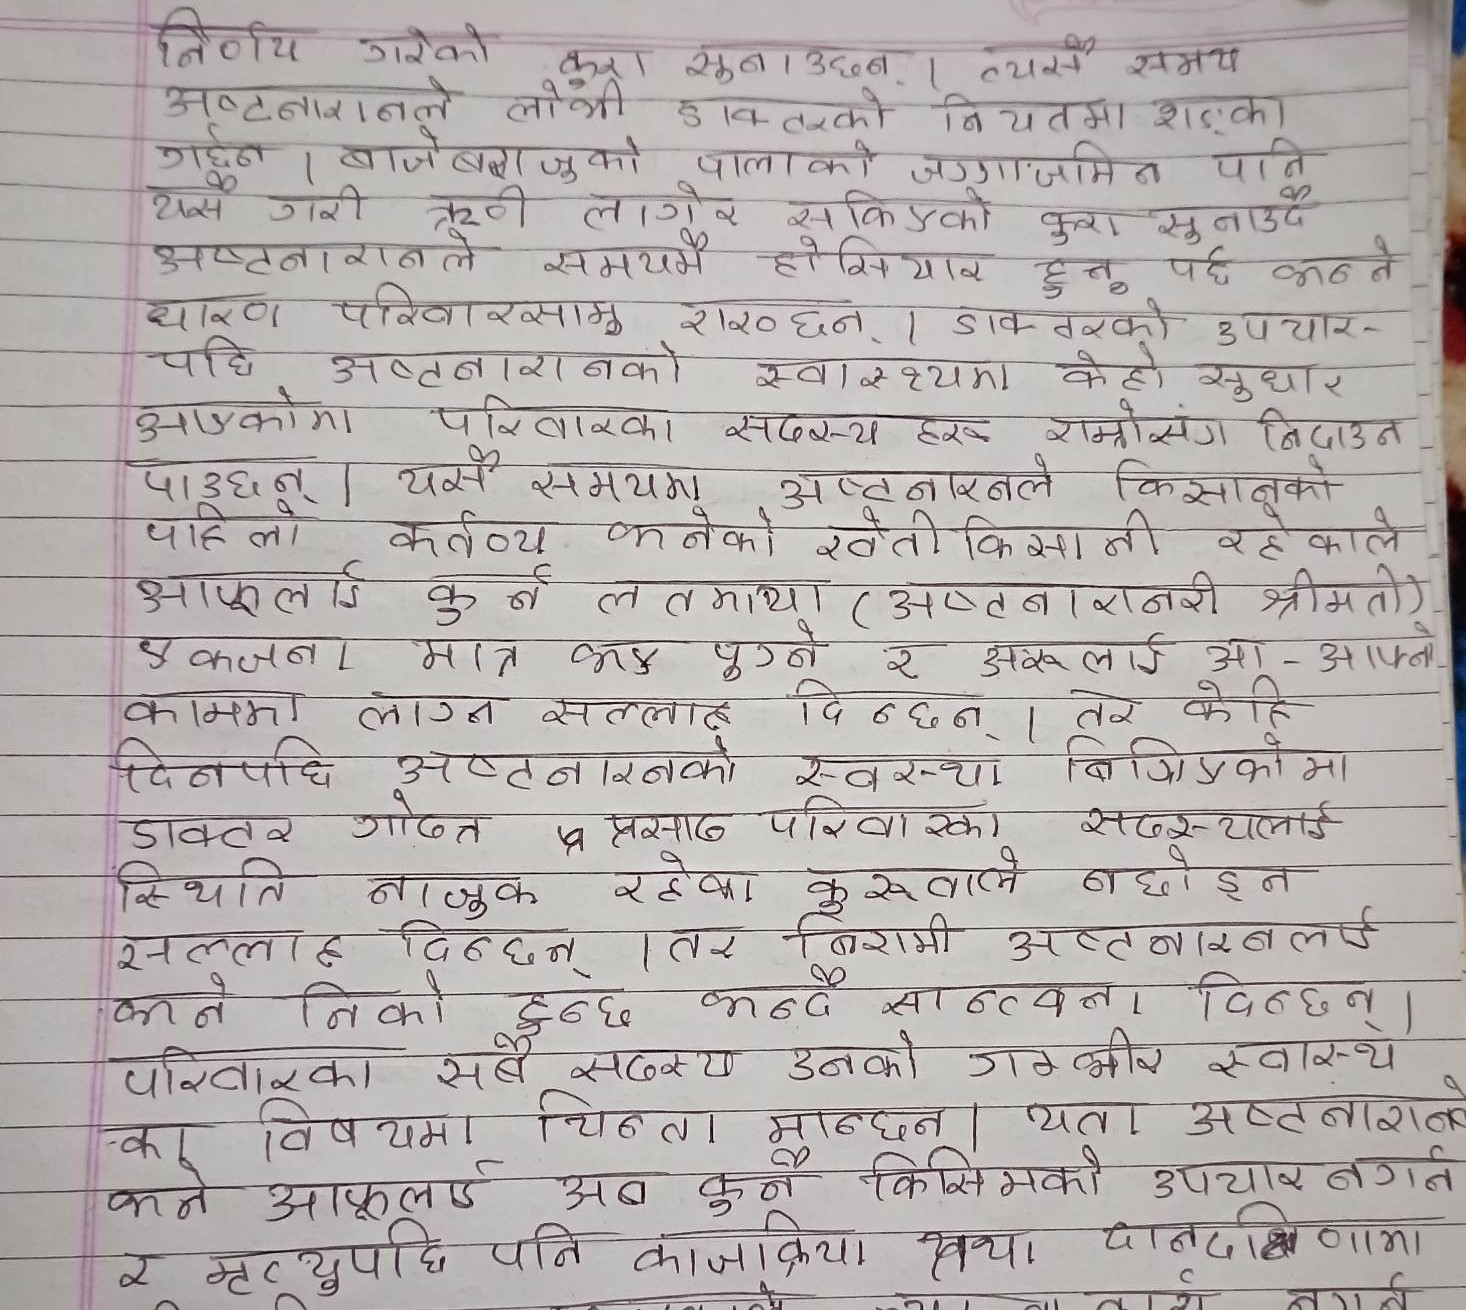person: (1087, 1210, 1433, 1269), (195, 1226, 466, 1293), (102, 1041, 389, 1097), (250, 1160, 482, 1217), (249, 1102, 483, 1156), (102, 922, 346, 971), (105, 859, 305, 913), (280, 976, 474, 1029), (79, 1159, 231, 1223), (119, 805, 311, 851), (102, 975, 238, 1038), (89, 1115, 211, 1155), (100, 1245, 169, 1290)
text: (1003, 913, 1392, 963), (388, 734, 737, 786), (323, 280, 629, 337), (881, 569, 1224, 621), (789, 843, 1042, 911), (324, 338, 683, 385), (147, 228, 476, 278), (1046, 738, 1359, 792), (633, 1216, 878, 1280), (331, 129, 637, 179), (1182, 1082, 1466, 1135), (783, 454, 1059, 507), (856, 1147, 1115, 1201), (159, 76, 447, 124), (136, 560, 369, 618), (104, 733, 335, 790), (1080, 847, 1308, 904), (587, 564, 827, 617), (723, 402, 989, 450), (870, 971, 1141, 1018), (124, 387, 358, 440), (1098, 453, 1336, 504), (1196, 627, 1437, 678), (904, 138, 1164, 185), (427, 389, 679, 438), (965, 1027, 1172, 1085), (1076, 797, 1340, 842), (529, 1094, 723, 1155), (350, 860, 550, 918), (1185, 972, 1392, 1028), (139, 5, 310, 72), (1209, 503, 1412, 559), (757, 237, 990, 284), (789, 680, 987, 737), (384, 921, 593, 974), (947, 295, 1166, 345), (1142, 1146, 1319, 1207), (129, 630, 357, 676), (756, 795, 1010, 837), (676, 33, 901, 80), (1148, 189, 1329, 246), (751, 353, 1007, 393), (963, 510, 1161, 561), (124, 448, 323, 498), (1209, 1028, 1407, 1079), (531, 683, 739, 731), (685, 287, 873, 339), (910, 1208, 1049, 1277), (780, 185, 995, 229), (1257, 563, 1411, 623), (934, 87, 1128, 135), (603, 502, 775, 556), (693, 969, 854, 1026), (675, 88, 885, 132), (975, 629, 1168, 675), (793, 746, 996, 790), (1039, 402, 1235, 448), (542, 228, 713, 279), (357, 8, 491, 73), (607, 854, 772, 907), (133, 500, 303, 550), (785, 914, 961, 961), (694, 137, 879, 181), (762, 1098, 944, 1142), (347, 791, 489, 847), (417, 562, 554, 619), (1324, 1145, 1463, 1202), (782, 1031, 930, 1083), (111, 684, 313, 722), (390, 512, 551, 559), (1211, 298, 1366, 346), (572, 1040, 739, 1084), (578, 181, 740, 225), (1195, 352, 1340, 400), (1256, 406, 1408, 452), (601, 800, 740, 850), (532, 20, 650, 79), (817, 509, 948, 561), (528, 460, 697, 500), (356, 689, 505, 733), (692, 1154, 807, 1211), (706, 624, 822, 678), (1267, 249, 1404, 295), (140, 289, 285, 333), (547, 1155, 662, 1208), (1150, 90, 1294, 132), (502, 79, 633, 124), (512, 985, 632, 1034), (1207, 137, 1329, 185), (1176, 679, 1302, 726), (144, 335, 264, 383), (971, 33, 1093, 80), (483, 1223, 590, 1276), (1055, 346, 1167, 396), (409, 629, 525, 675), (263, 180, 372, 227), (567, 632, 678, 679), (659, 916, 759, 967), (153, 126, 279, 167), (431, 1041, 537, 1089), (424, 179, 533, 226), (399, 446, 494, 498), (1128, 39, 1250, 80), (1030, 252, 1139, 295), (1062, 686, 1159, 733), (146, 172, 237, 221), (1019, 1100, 1147, 1133), (1039, 198, 1124, 245), (1164, 244, 1237, 287), (874, 631, 934, 676)
